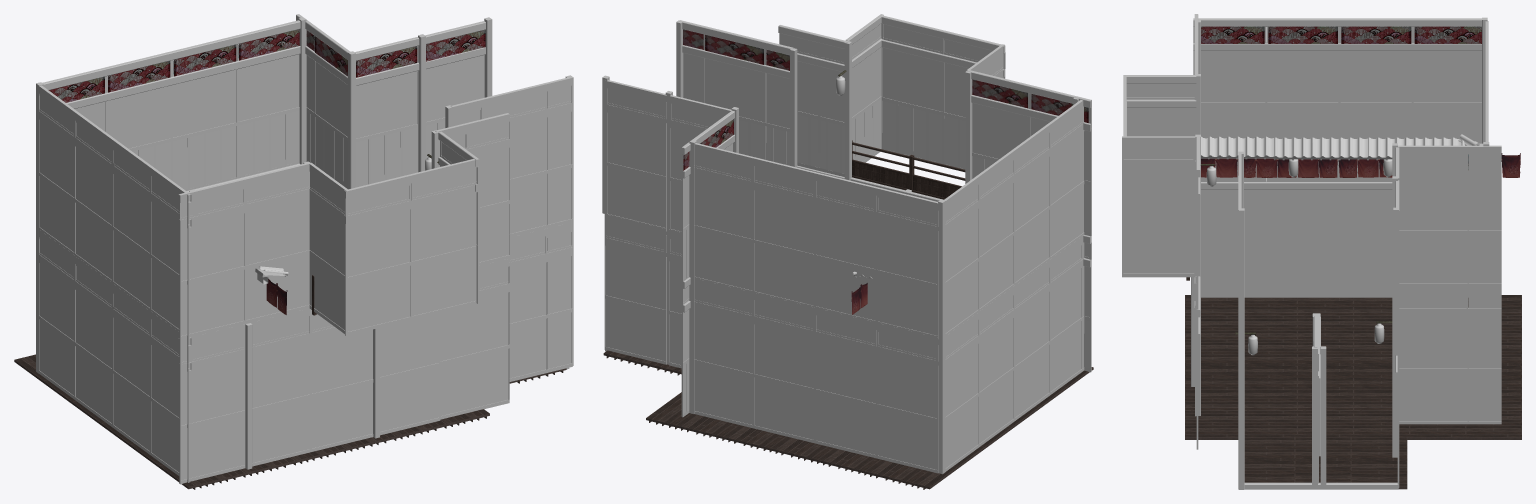
The model's file is 5F-1_Building.fbx.
3 views of the same model, side by side, from view 1: azimuth 30°, elevation 25°; view 2: azimuth 150°, elevation 25°; view 3: azimuth 270°, elevation 25° (orthographic). The views are drawn at different scales.
Visible parts, largest first — view 1: _Combined Mesh [5F-1_Building]; view 2: _Combined Mesh [5F-1_Building]; view 3: _Combined Mesh [5F-1_Building].
Boxes of the visible parts, bbox=[...] form: _Combined Mesh [5F-1_Building]: bbox=[14, 14, 573, 489]; _Combined Mesh [5F-1_Building]: bbox=[602, 14, 1093, 489]; _Combined Mesh [5F-1_Building]: bbox=[1122, 14, 1521, 489].
Bounding box in the file's own units: 9.94 × 6.69 × 8.54.
